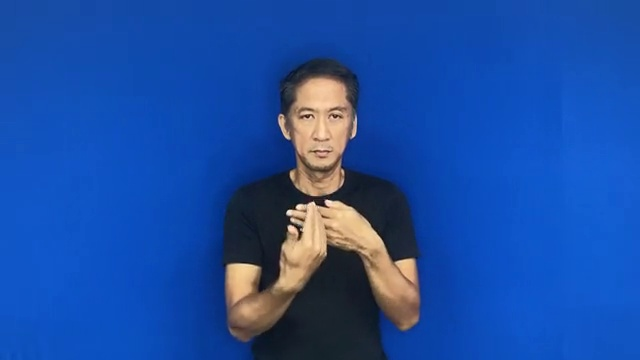bread: (272, 185, 367, 289)
